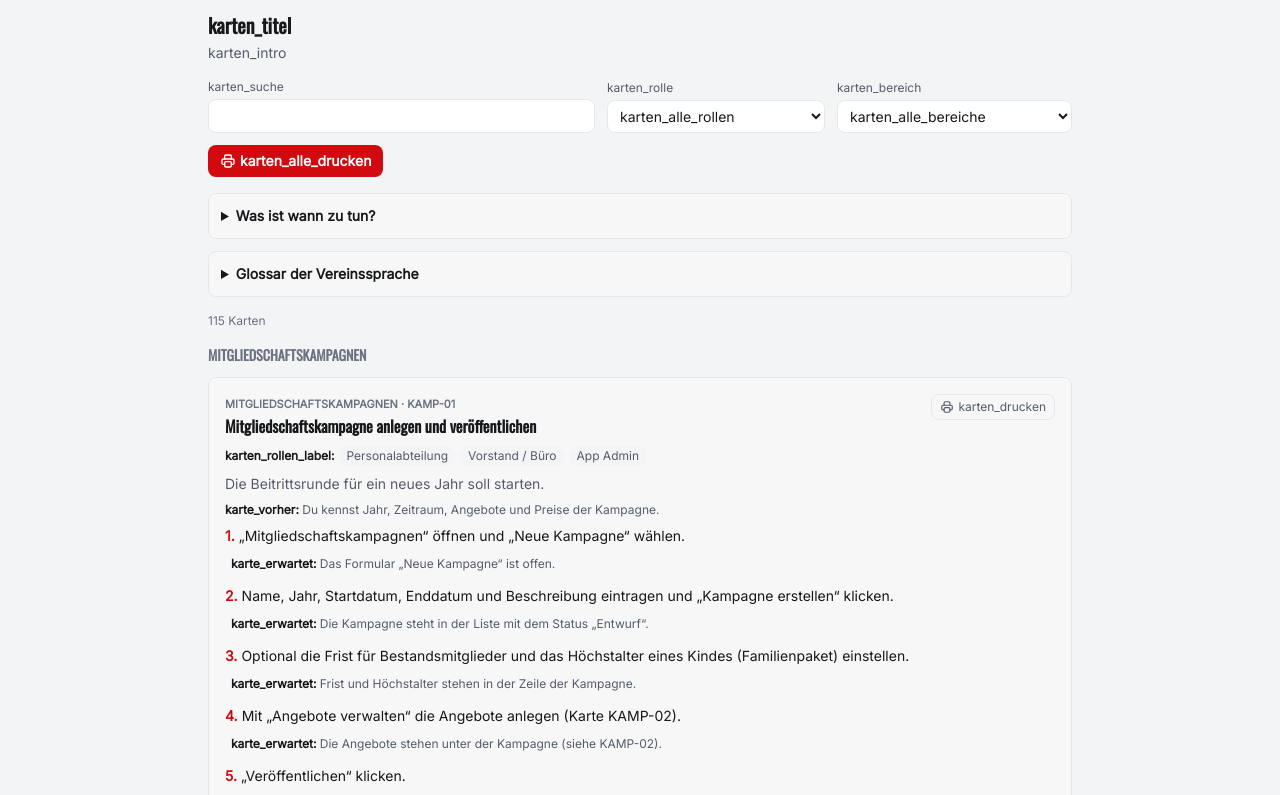
AufgabenkartenPage › filtert nach Rolle, Karten ohne Rollenangabe bleiben sichtbar
Select "Einlass-Helfer" in the dropdown labelled "karten_rolle" at (716, 116), box left=607, top=100, right=825, bottom=133
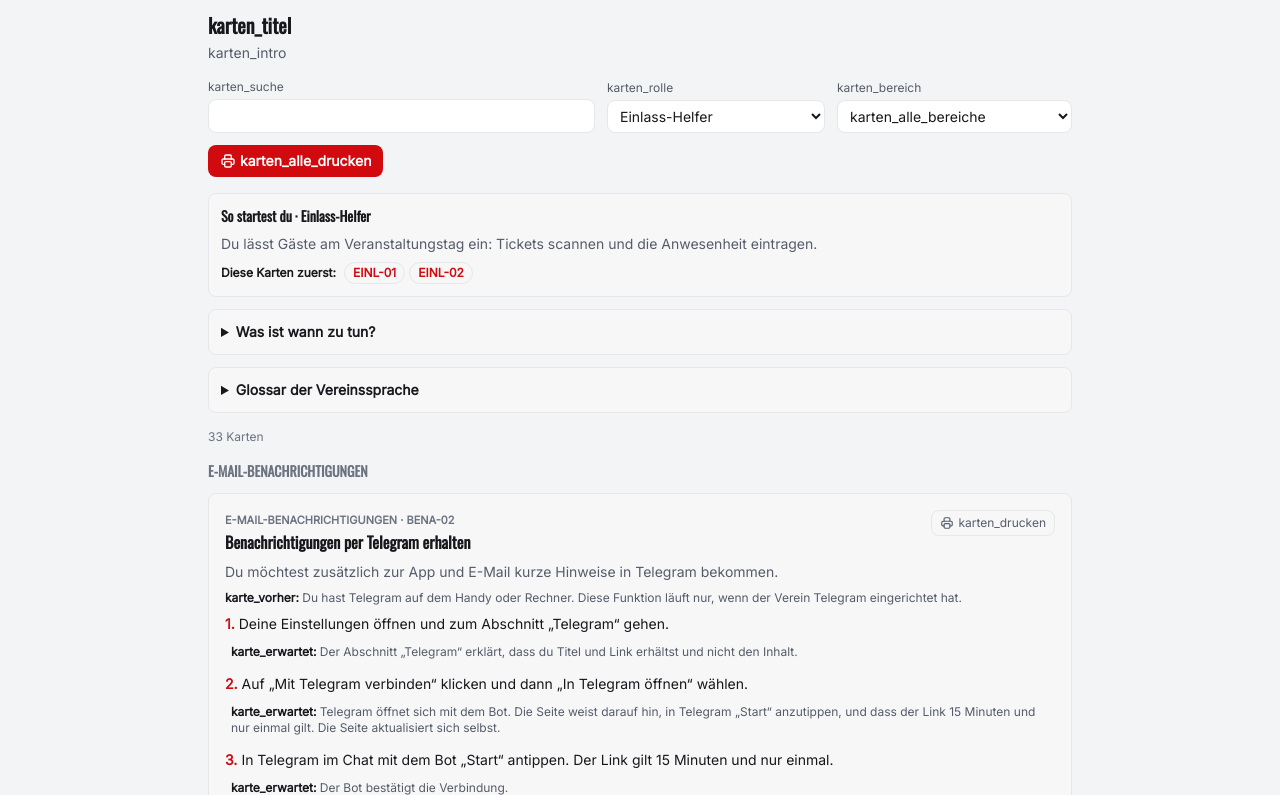
Expected: the heading "Überweisung bestätigen (SEPA)" is not shown
Select "Finanzdirektor" in the dropdown labelled "karten_rolle" at (716, 116), box left=607, top=100, right=825, bottom=133
(page scrolled)
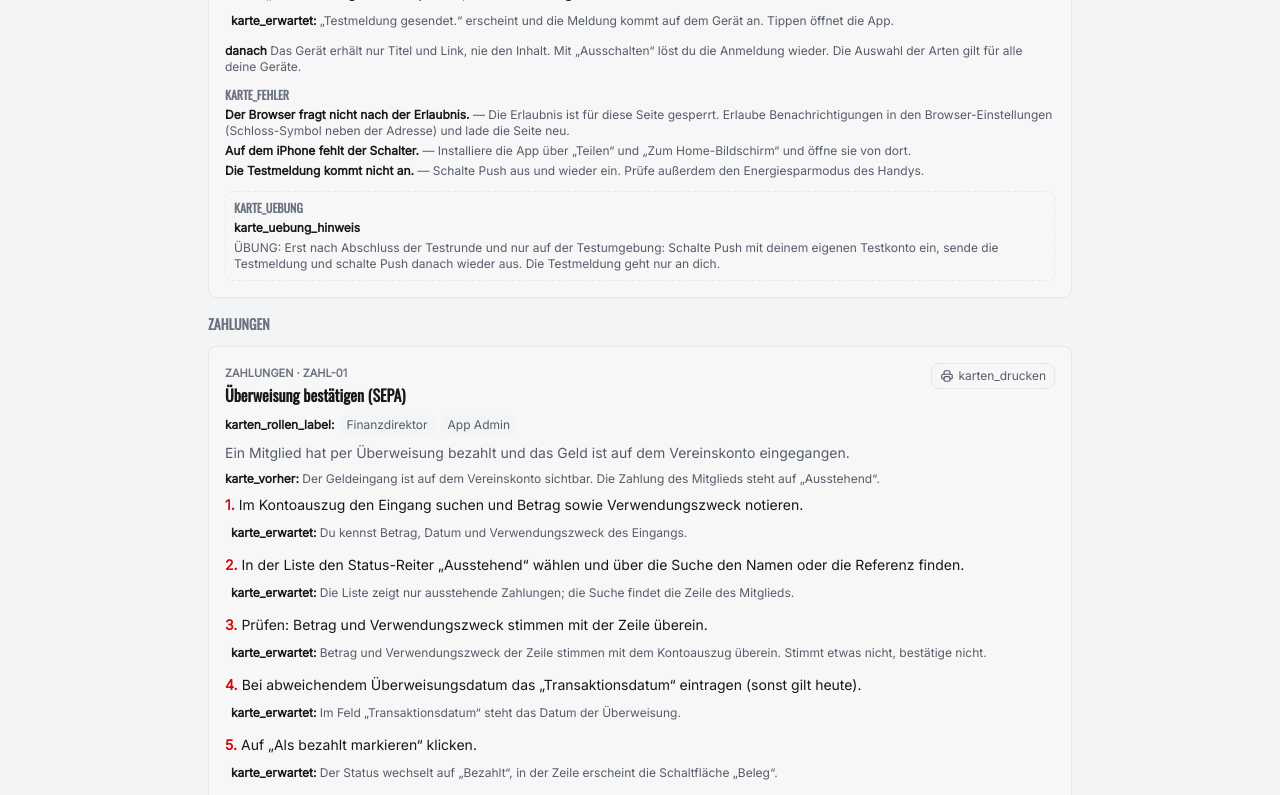
Expected: the heading "Überweisung bestätigen (SEPA)" is shown, left=225, top=383, right=406, bottom=407
